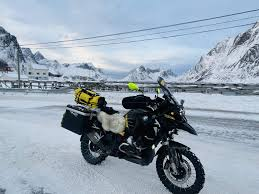motorcycle: (59, 76, 205, 194)
